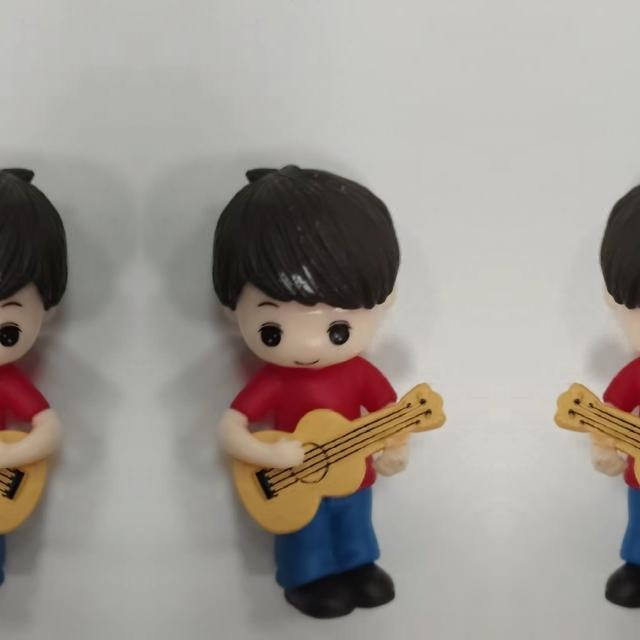man cloth: (233, 366, 407, 496), (0, 366, 47, 496), (593, 366, 640, 496)
man head: (202, 156, 408, 374), (0, 155, 78, 374), (592, 155, 640, 374)
trousers: (252, 486, 410, 624), (590, 485, 640, 624), (0, 485, 27, 624)
